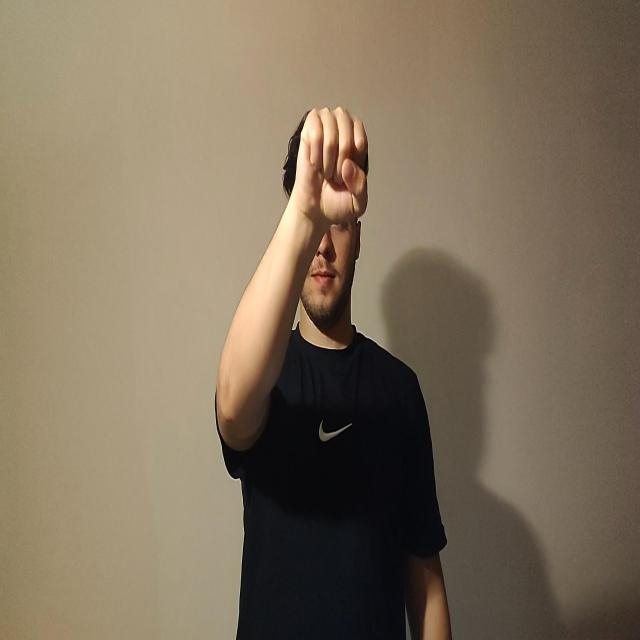yes: (293, 105, 369, 231)
